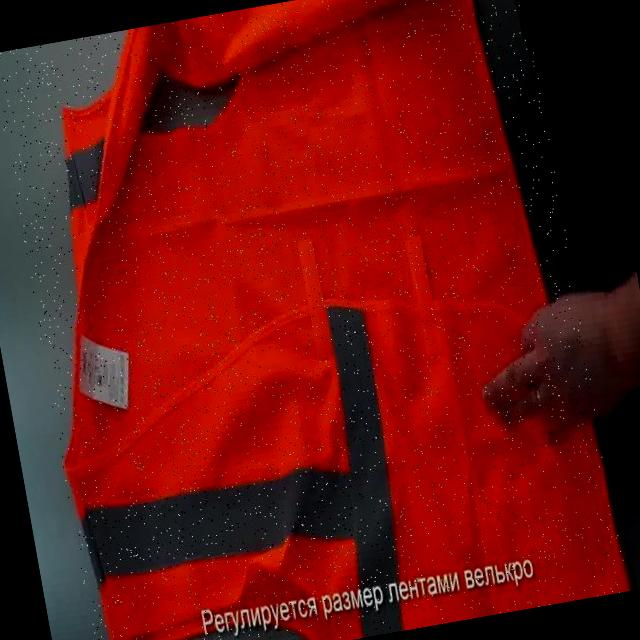vest: (0, 0, 629, 640)
